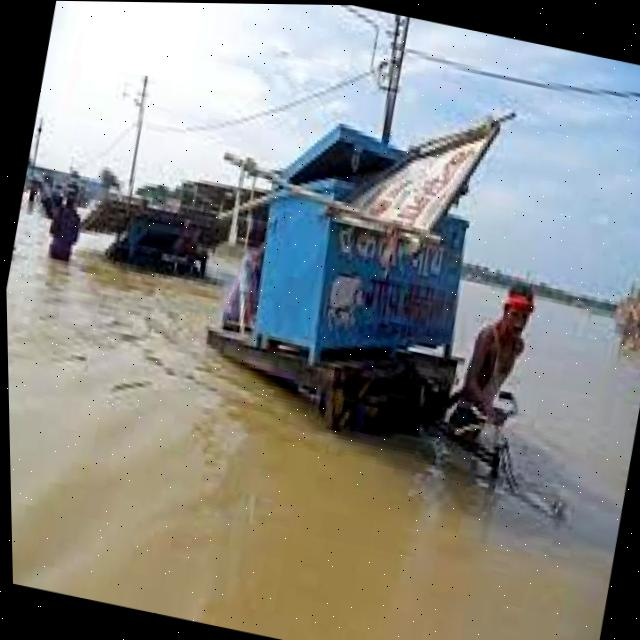civilian: (436, 261, 565, 459), (30, 180, 97, 271)
